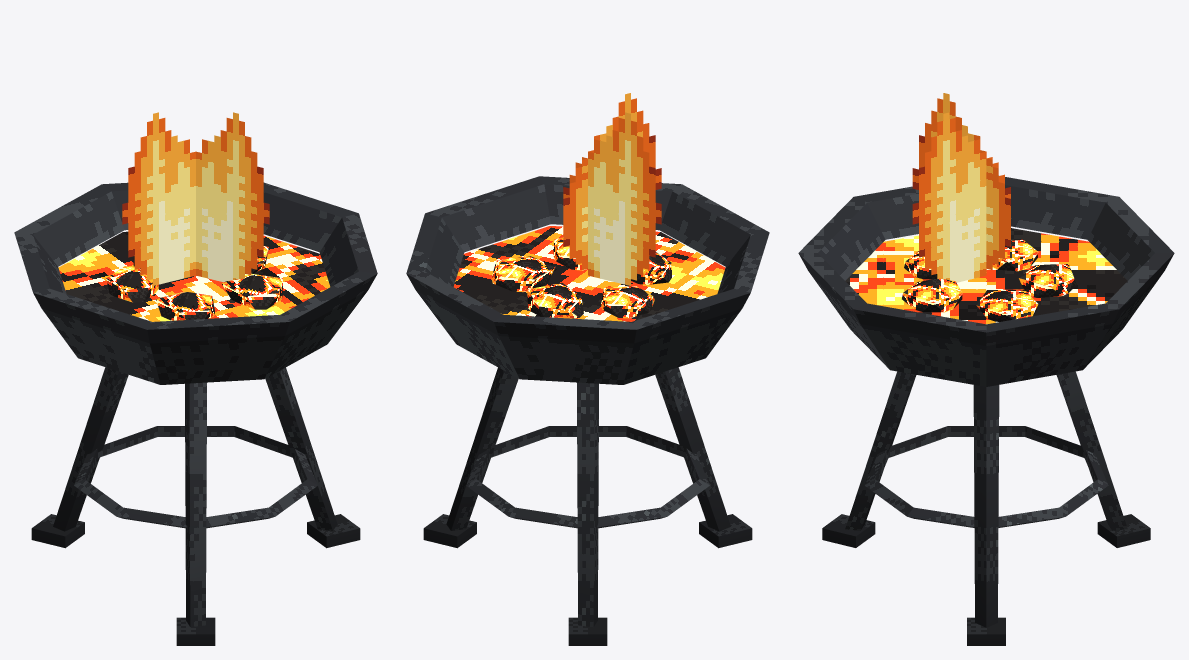
Rendered from brazier.glb.
The picture shows the model from 3 angles, left to right: view 1: azimuth 30°, elevation 25°; view 2: azimuth 150°, elevation 25°; view 3: azimuth 270°, elevation 25°; orthographic projection.
Visible parts, largest first — view 1: brazier, flame; view 2: brazier, flame; view 3: brazier, flame.
Boxes of the visible parts, x1,y1,x2,y2 form: brazier: (14, 182, 377, 645); flame: (122, 112, 269, 285); brazier: (406, 176, 769, 645); flame: (563, 93, 661, 285); brazier: (798, 177, 1174, 645); flame: (912, 93, 1010, 282).
Bounding box in the file's own units: 1.16 × 1.73 × 1.16.
Materials: 3 (3 with a texture image).
